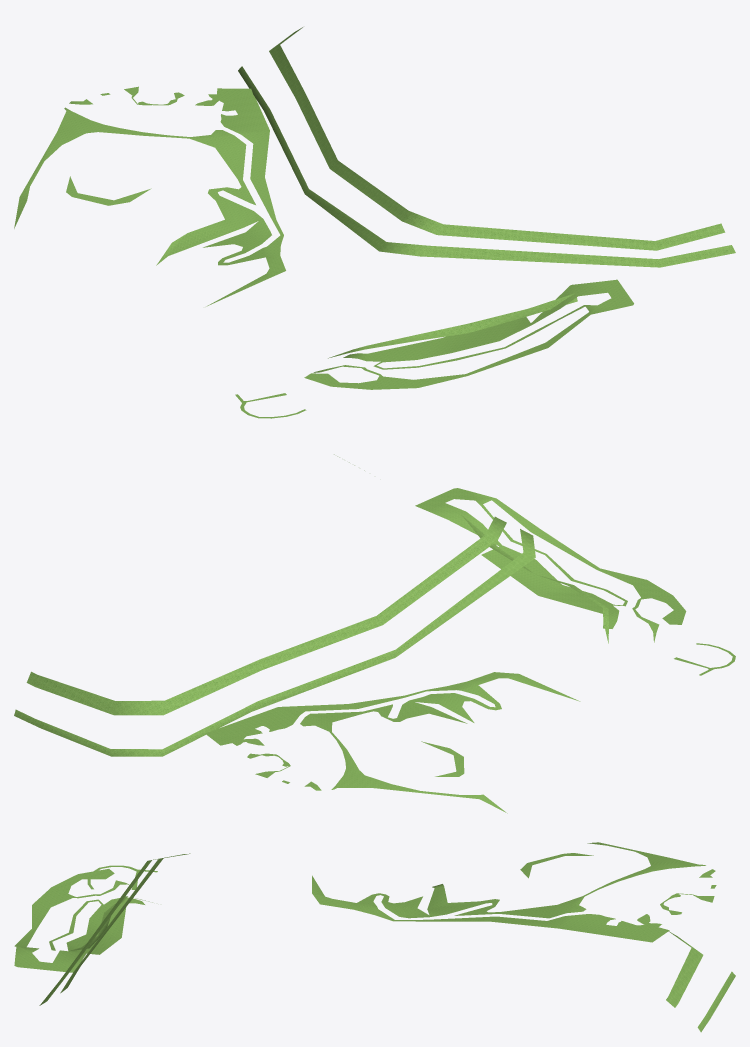
The model's file is kd_stage_1364a3_7_5_bounded.glb.
3 views of the same model, one above another, from view 1: azimuth 30°, elevation 25°; view 2: azimuth 150°, elevation 25°; view 3: azimuth 270°, elevation 25° (orthographic). The views are drawn at different scales.
Visible parts, largest first — view 1: kd_stage_1364a3_7_5_bounded; view 2: kd_stage_1364a3_7_5_bounded; view 3: kd_stage_1364a3_7_5_bounded.
Boxes of the visible parts, x1,y1,x2,y2 form: kd_stage_1364a3_7_5_bounded: (14,27,735,418); kd_stage_1364a3_7_5_bounded: (14,454,735,813); kd_stage_1364a3_7_5_bounded: (14,842,735,1032).
Size of the model in its own units: 219 by 54.1 by 306.
Materials: 1 (1 with a texture image).
